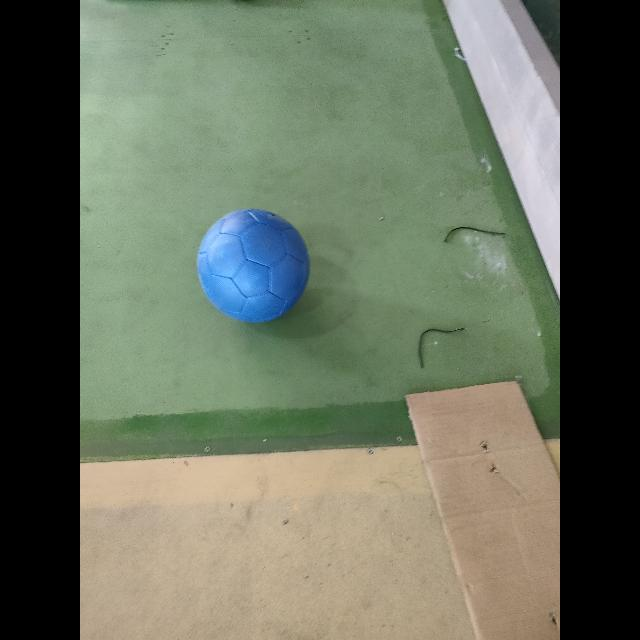B: (196, 208, 310, 322)
